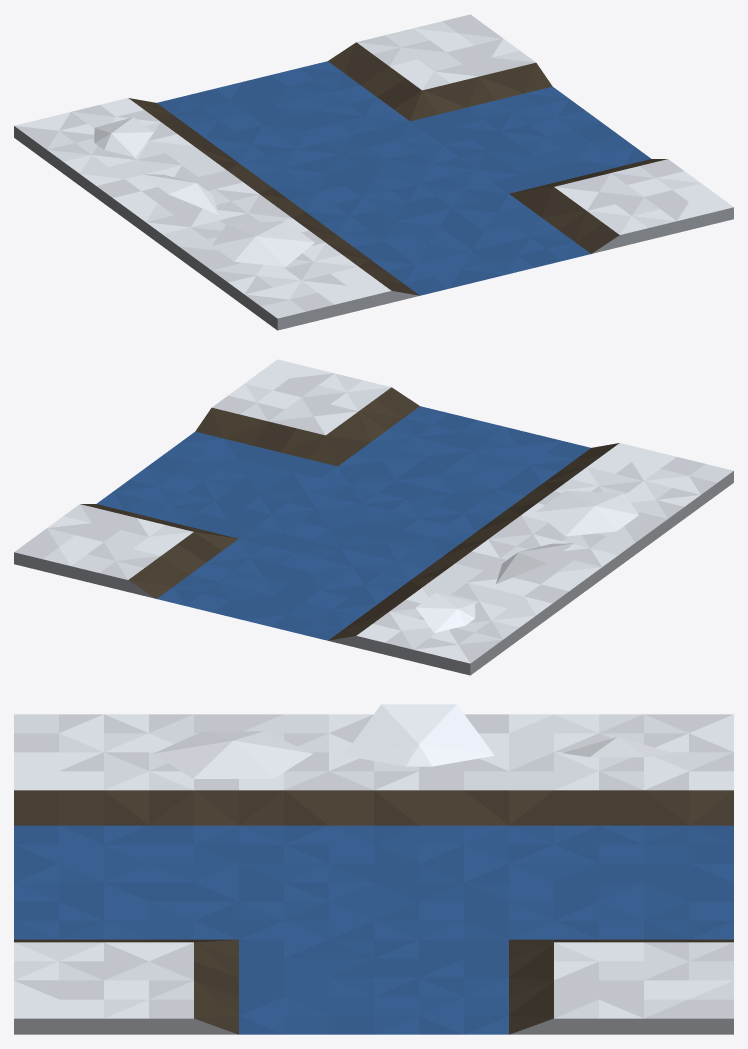
File: river_junction_snow.glb
3 views of the same model, one above another, from view 1: azimuth 30°, elevation 25°; view 2: azimuth 150°, elevation 25°; view 3: azimuth 270°, elevation 25° (orthographic). The views are drawn at different scales.
Parts seen in each view (by area): view 1: river_junction_snow; view 2: river_junction_snow; view 3: river_junction_snow.
Boxes of the visible parts, left/top/right/bottom form: river_junction_snow: left=14, top=14, right=733, bottom=330; river_junction_snow: left=14, top=359, right=733, bottom=675; river_junction_snow: left=14, top=704, right=733, bottom=1034.
Bounding box in the file's own units: 4 × 0.3296 × 4.
